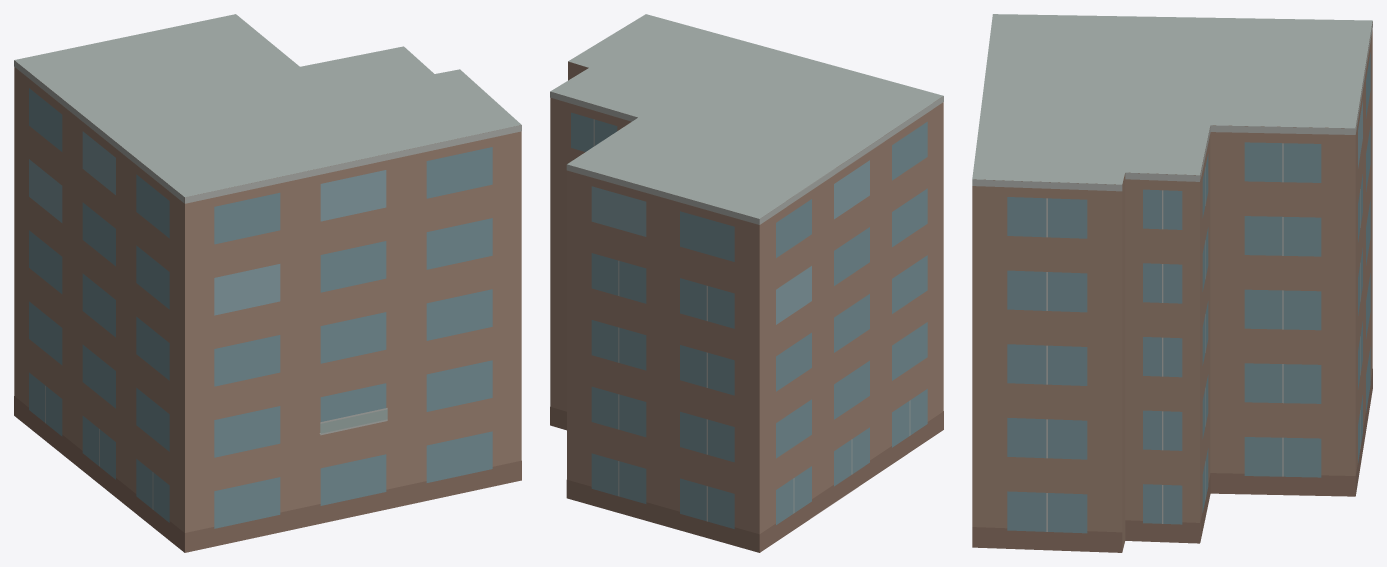
The model's file is survey-upis-32673405.glb.
The picture shows the model from 3 angles, left to right: view 1: azimuth 30°, elevation 25°; view 2: azimuth 150°, elevation 25°; view 3: azimuth 270°, elevation 25°; orthographic projection. The views are drawn at different scales.
Parts seen in each view (by area): view 1: survey-upis-32673405.tmp; view 2: survey-upis-32673405.tmp; view 3: survey-upis-32673405.tmp.
Boxes of the visible parts, x1,y1,x2,y2 form: survey-upis-32673405.tmp: (14,14,521,552); survey-upis-32673405.tmp: (550,14,943,552); survey-upis-32673405.tmp: (972,14,1372,552).
Size of the model in its own units: 13.33 by 13.4 by 13.22.
